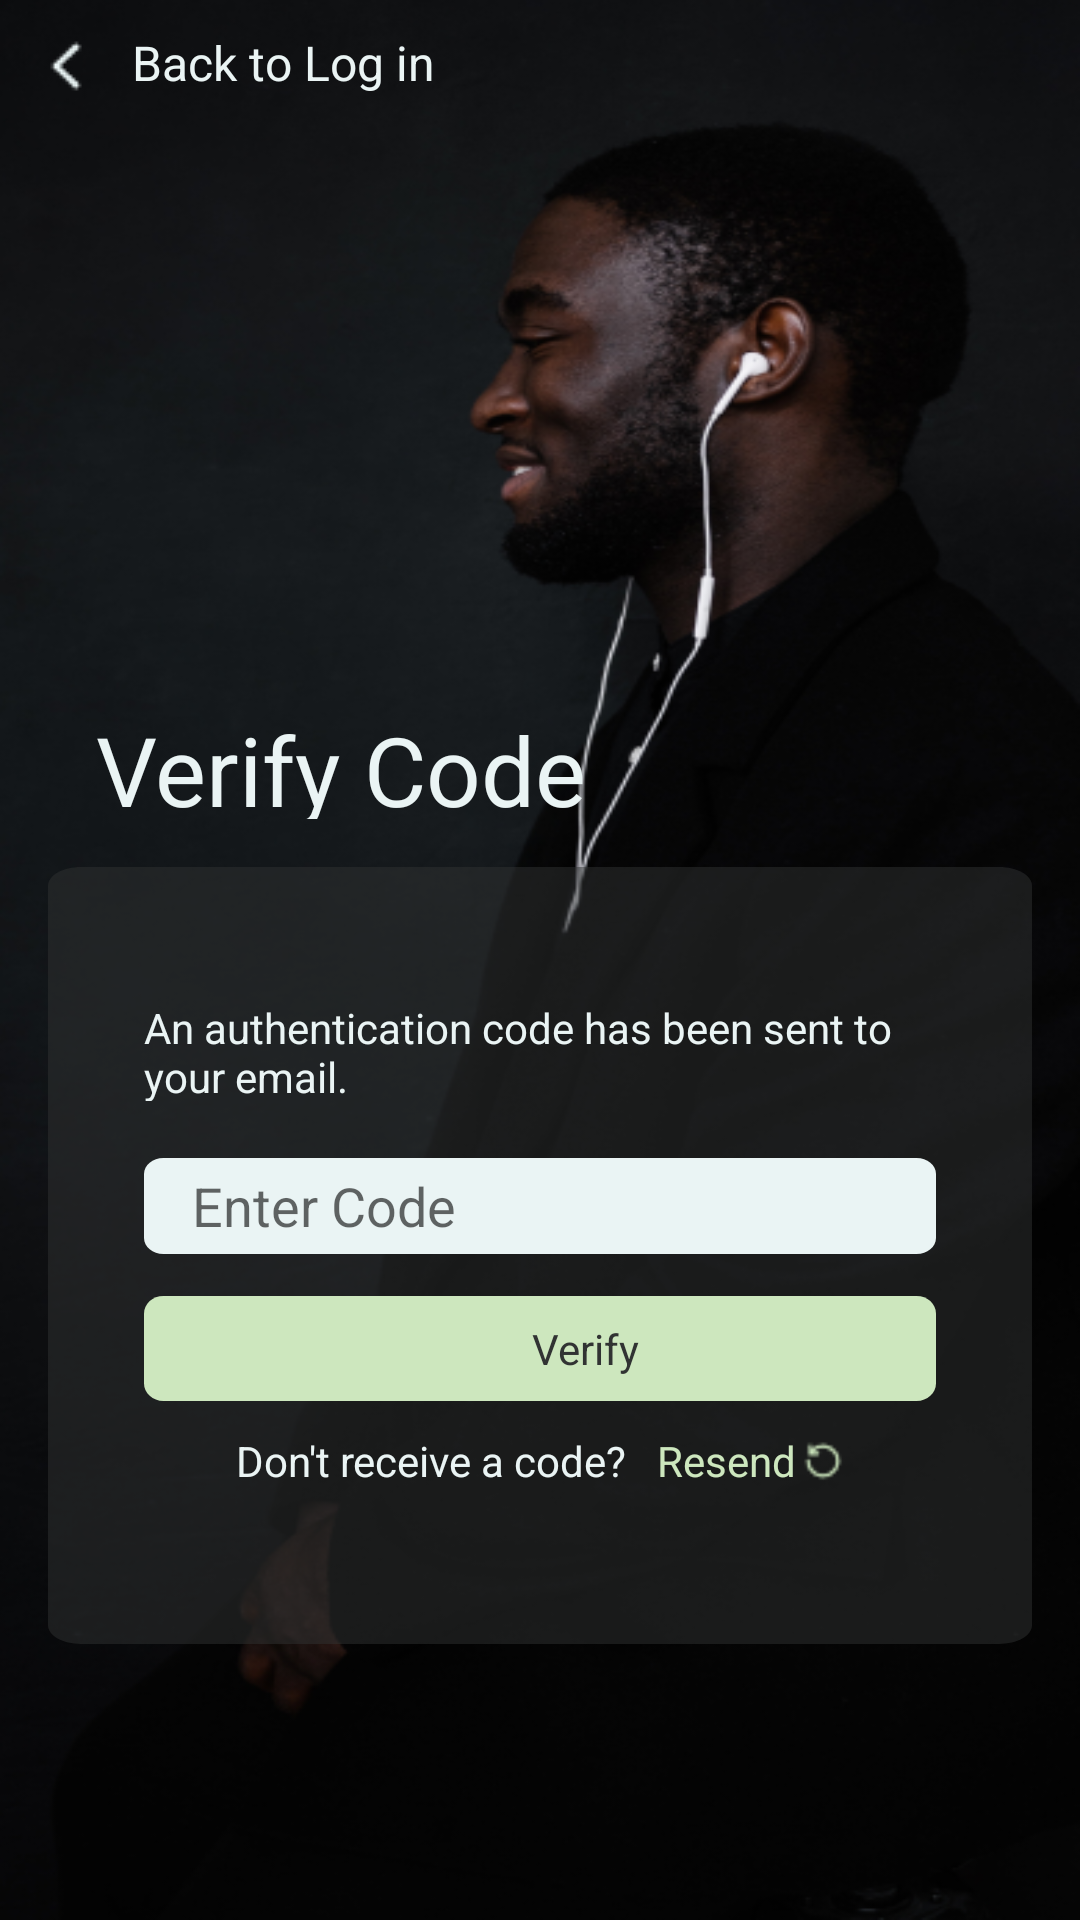

Named icons in this screenshot (1080px×1920px) and their centers, (x=x, y=y):
uil reload: (x=823, y=1461)
